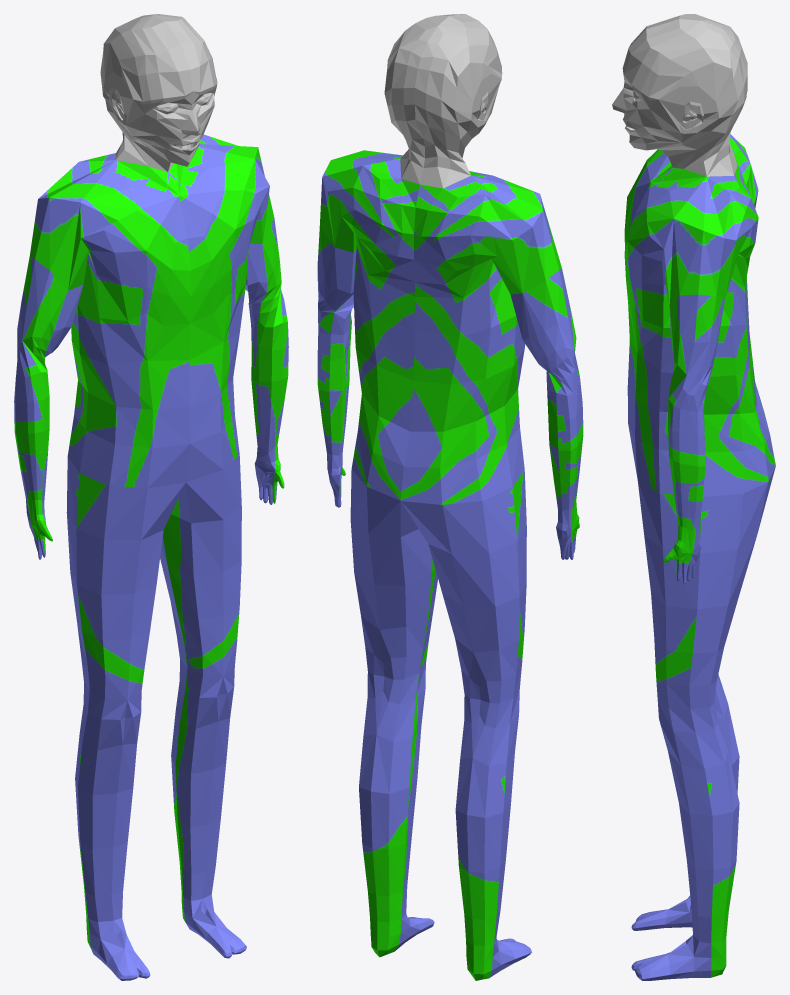
Rendered from playermesh.obj.
3 renders of one model, left to right at view 1: azimuth 30°, elevation 25°; view 2: azimuth 150°, elevation 25°; view 3: azimuth 270°, elevation 25°, orthographic.
Visible parts, largest first — view 1: Head_Cube.001; view 2: Head_Cube.001; view 3: Head_Cube.001.
Part boxes in pixels (box(x1,y1,x2,y2)): Head_Cube.001: box(14, 14, 288, 980); Head_Cube.001: box(317, 14, 583, 980); Head_Cube.001: box(612, 14, 775, 980).
Size of the model in its own units: 2.42 by 8.27 by 1.32.
